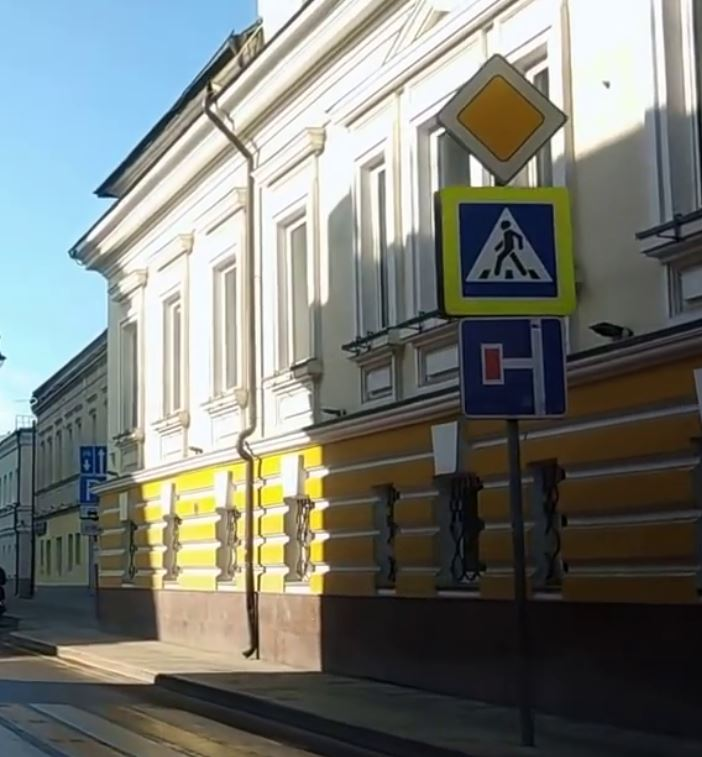Yaya Gecidi: (456, 200, 568, 296)
